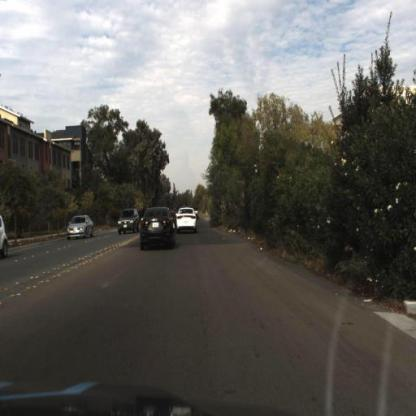car: (138, 200, 181, 259), (61, 210, 102, 254), (171, 204, 202, 247), (114, 201, 142, 241), (116, 205, 143, 238), (165, 218, 178, 242)
